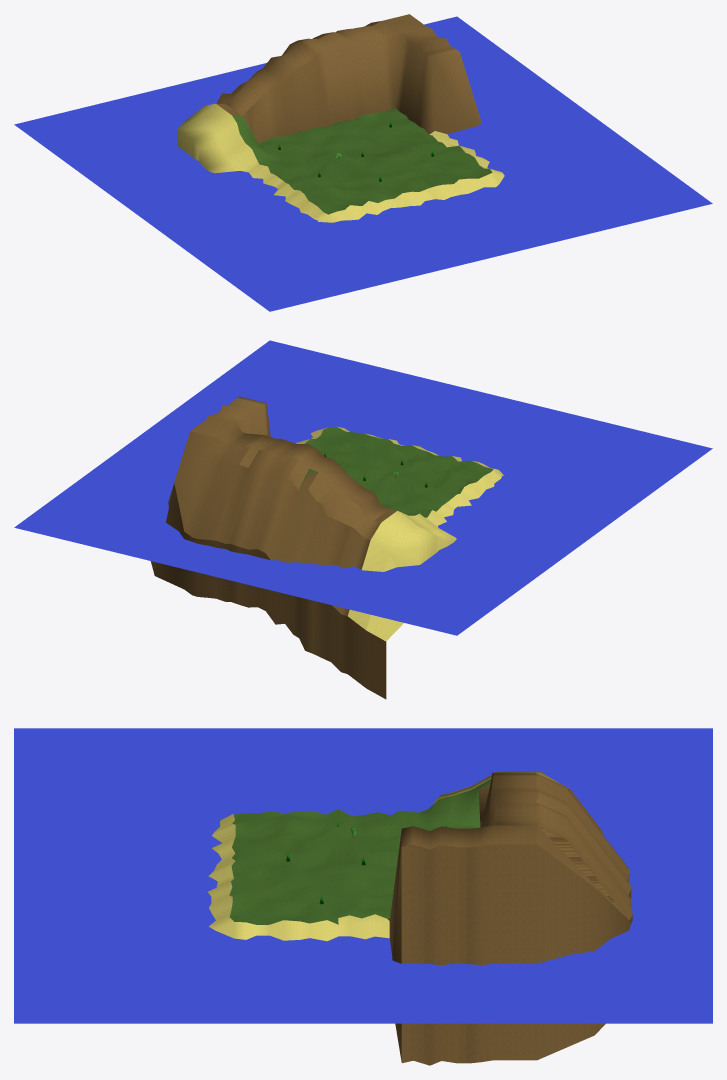
The model's file is skjarisles.glb.
3 views of the same model, one above another, from view 1: azimuth 30°, elevation 25°; view 2: azimuth 150°, elevation 25°; view 3: azimuth 270°, elevation 25° (orthographic). The views are drawn at different scales.
Parts seen in each view (by area): view 1: Beaches; view 2: Beaches; view 3: Beaches.
Boxes of the visible parts, x1,y1,x2,y2 form: Beaches: [14, 14, 712, 311]; Beaches: [14, 340, 712, 699]; Beaches: [14, 728, 712, 1065].
Bounding box in the file's own units: 1600 × 646 × 1600.
8 materials, 5 textured.
